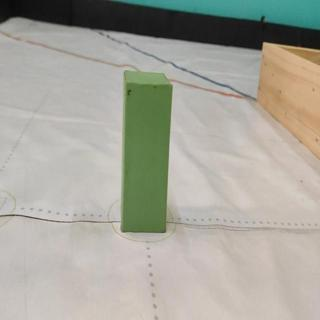greenbox: (121, 67, 175, 232)
